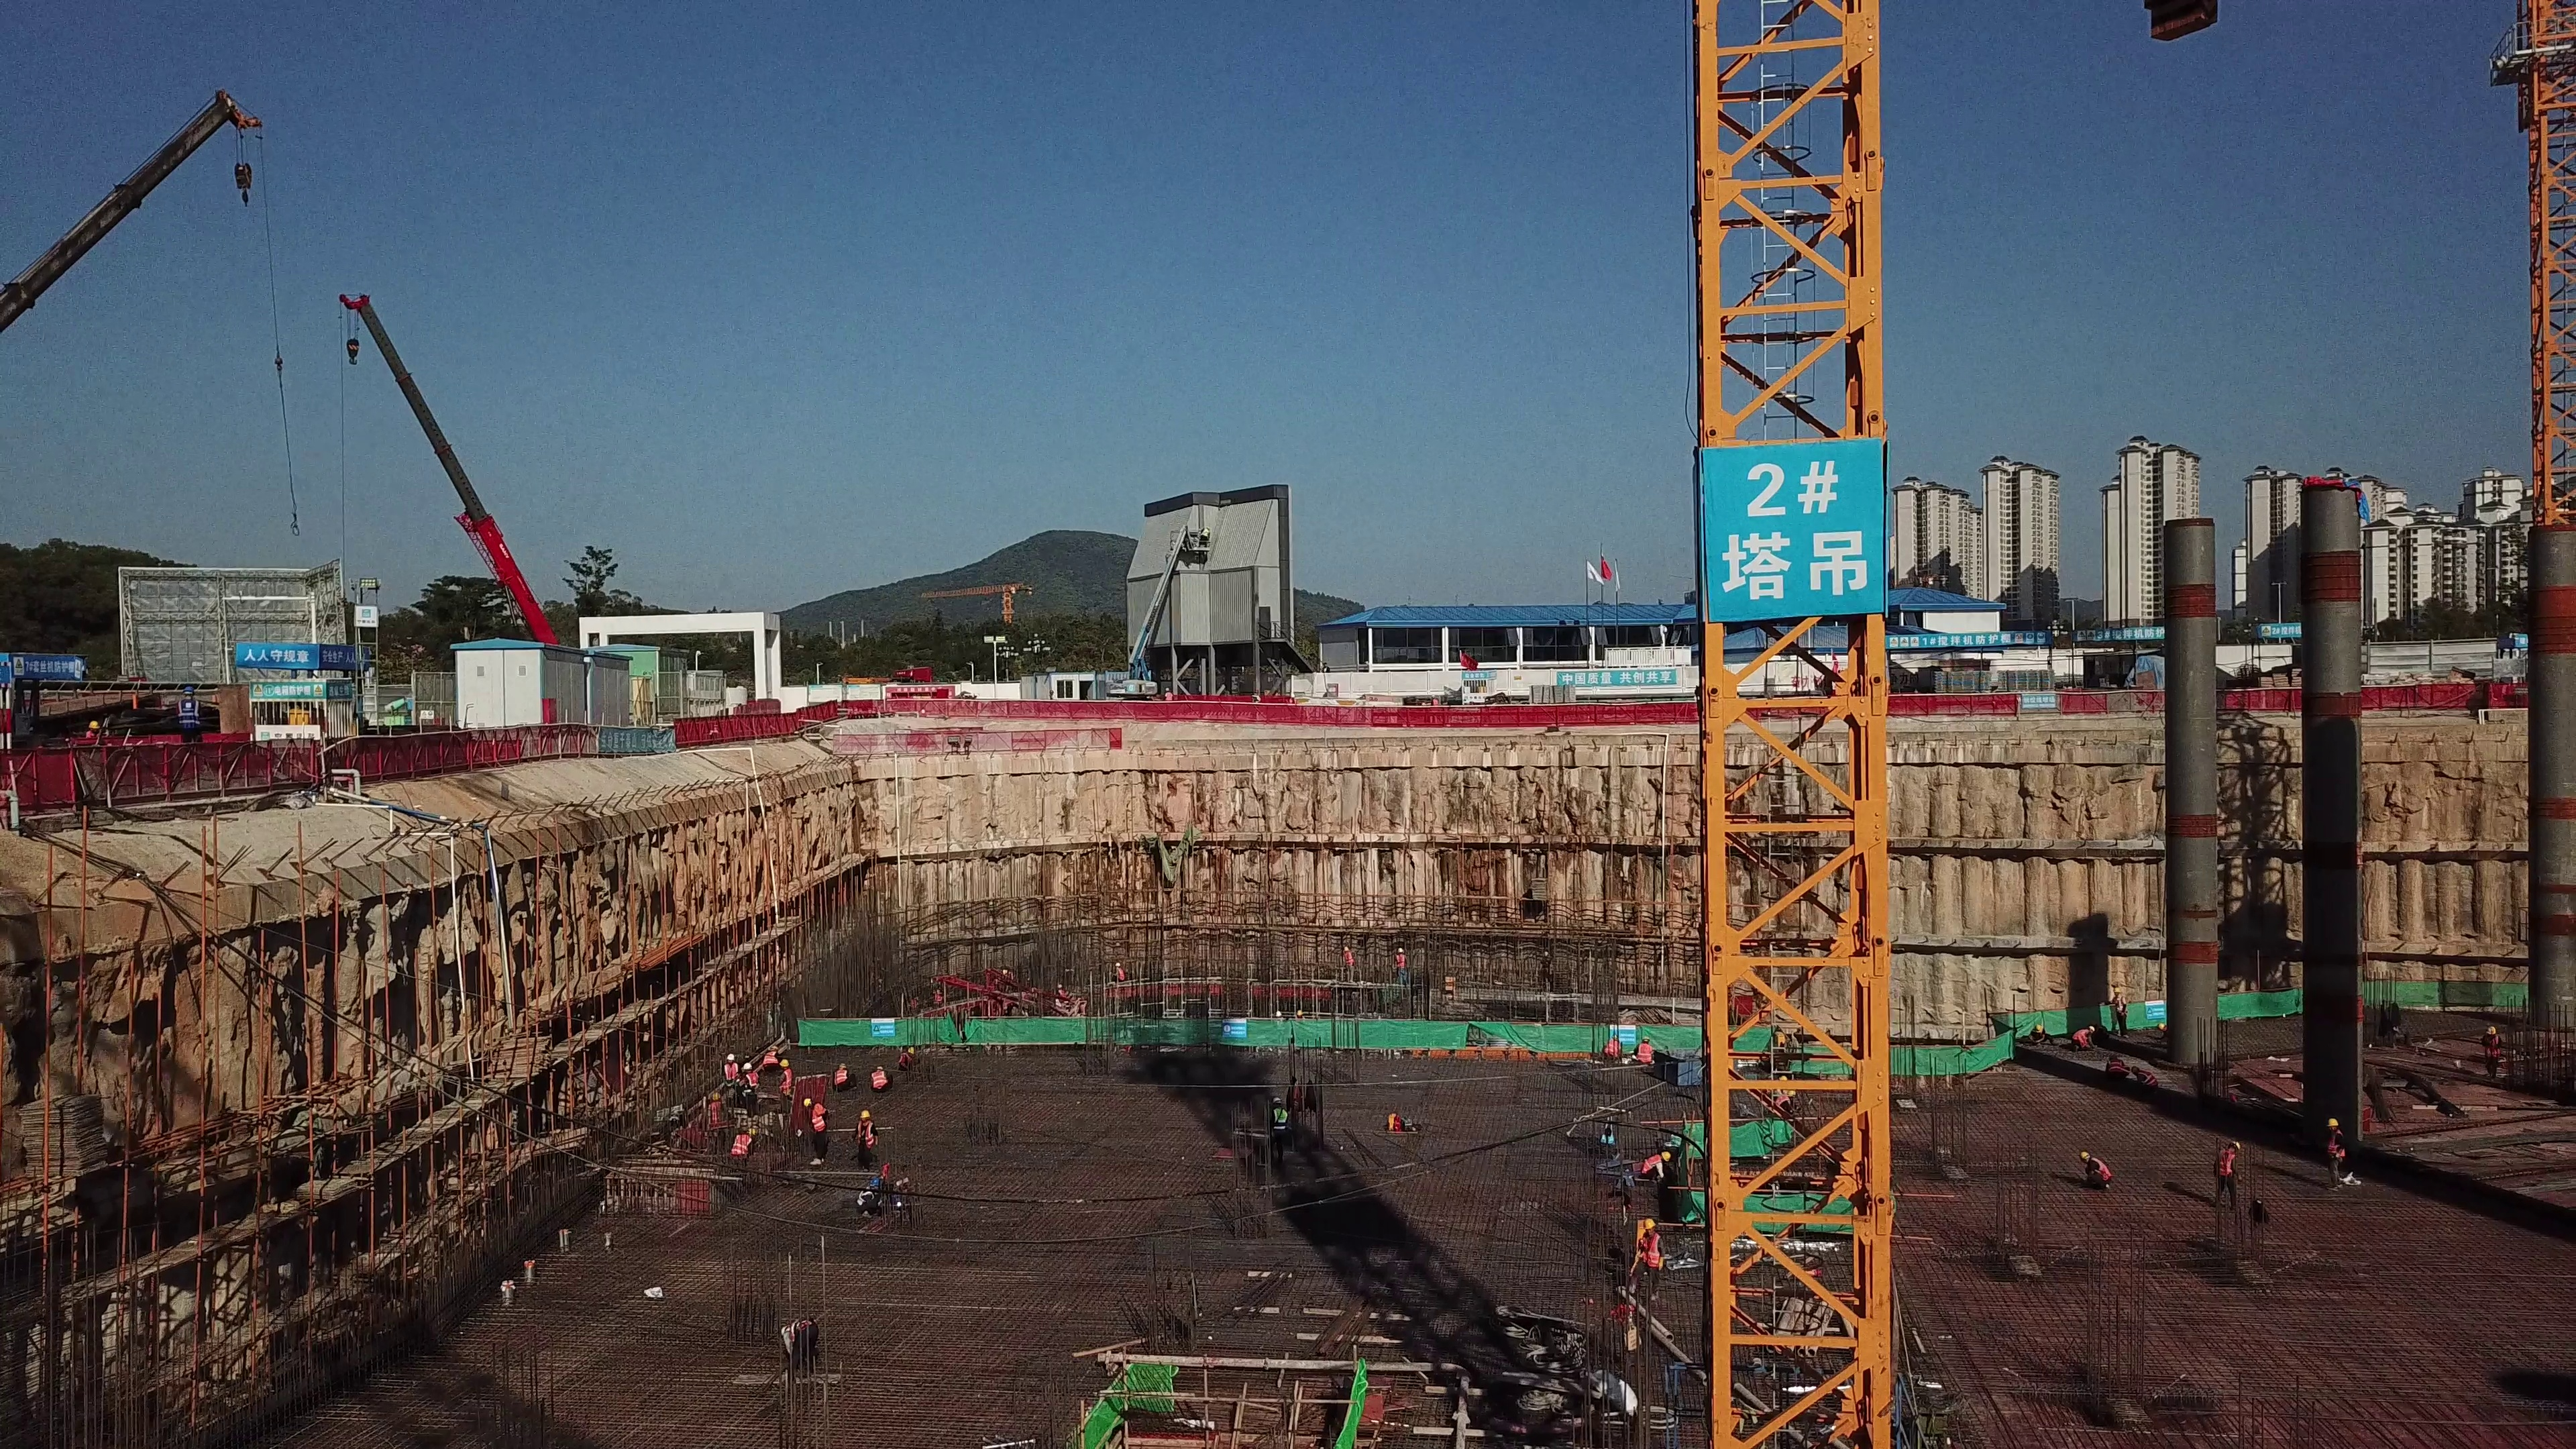helmet: (180, 684, 197, 697), (2325, 1117, 2341, 1128), (86, 721, 101, 732), (869, 1177, 883, 1187), (859, 1107, 873, 1119), (1642, 1220, 1658, 1228), (779, 1058, 790, 1068), (1659, 1149, 1670, 1162), (742, 1063, 756, 1072), (1270, 1095, 1284, 1105), (2032, 1024, 2045, 1032), (802, 1097, 812, 1108), (2080, 1152, 2091, 1162), (2231, 1139, 2242, 1150), (1640, 1034, 1652, 1042), (725, 1052, 736, 1061), (2114, 986, 2125, 994), (908, 1046, 917, 1055), (748, 1127, 757, 1136), (837, 1061, 848, 1069), (780, 1323, 788, 1334), (2110, 1051, 2119, 1059), (2156, 1022, 2166, 1030), (2089, 1025, 2097, 1032), (2131, 1067, 2141, 1074), (1612, 1034, 1619, 1039), (875, 1065, 885, 1069)
person: (775, 1316, 828, 1381), (1629, 1217, 1667, 1303), (795, 1094, 833, 1168), (2209, 1132, 2243, 1210), (2319, 1112, 2349, 1189), (850, 1106, 881, 1173), (176, 679, 207, 741), (1631, 1142, 1673, 1186), (1766, 1076, 1801, 1126), (854, 1177, 891, 1220), (2081, 1148, 2117, 1189), (1269, 1093, 1288, 1165), (739, 1063, 765, 1116), (2110, 985, 2135, 1042), (718, 1051, 743, 1100), (828, 1055, 861, 1091), (2131, 1065, 2161, 1102), (775, 1057, 798, 1104), (1598, 1030, 1628, 1066), (1627, 1033, 1658, 1068), (2070, 1020, 2101, 1053), (867, 1064, 898, 1094), (710, 1092, 730, 1134), (730, 1124, 756, 1159), (761, 1039, 784, 1075), (2105, 1049, 2129, 1085), (2028, 1022, 2053, 1046), (895, 1044, 918, 1072), (81, 718, 106, 740), (2156, 1016, 2169, 1046)
vest: (1637, 1233, 1663, 1269), (177, 698, 202, 728), (857, 1122, 877, 1146), (810, 1105, 827, 1132), (2216, 1150, 2236, 1173), (2093, 1159, 2114, 1181), (733, 1133, 753, 1155), (855, 1191, 879, 1208), (1602, 1040, 1623, 1061), (1633, 1044, 1654, 1063), (1642, 1151, 1659, 1174), (2070, 1025, 2087, 1048), (870, 1072, 890, 1089), (744, 1073, 760, 1093), (779, 1070, 792, 1093), (723, 1064, 739, 1082), (1273, 1109, 1287, 1130), (2143, 1072, 2159, 1088), (833, 1071, 852, 1085), (764, 1052, 782, 1066)
